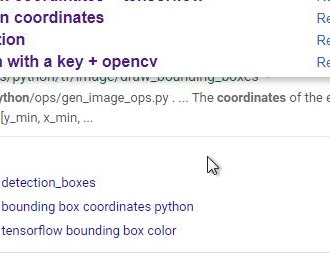cursor: (205, 154, 220, 175)
